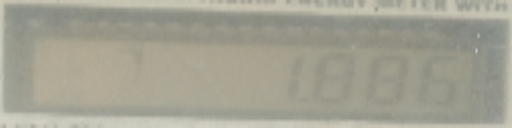1: (281, 54, 301, 104)
6: (418, 53, 463, 107)
8: (313, 53, 358, 107), (366, 53, 411, 107)
d: (298, 89, 310, 110)
